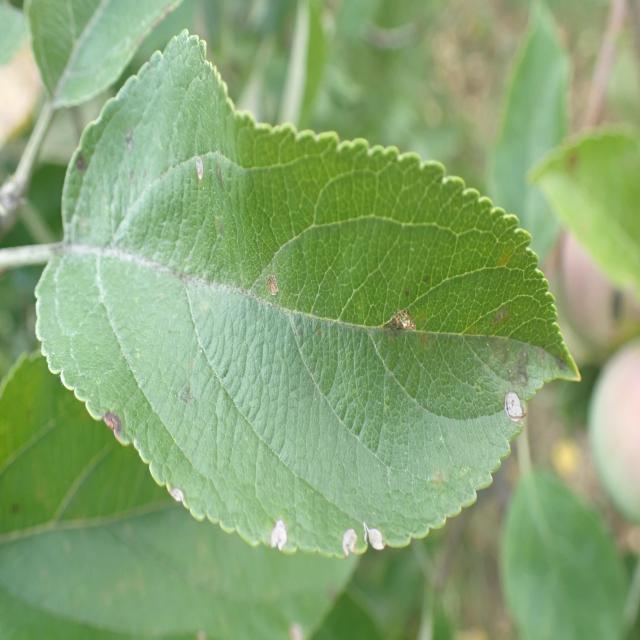frog-eye-leaf-spot: (34, 29, 584, 560)
